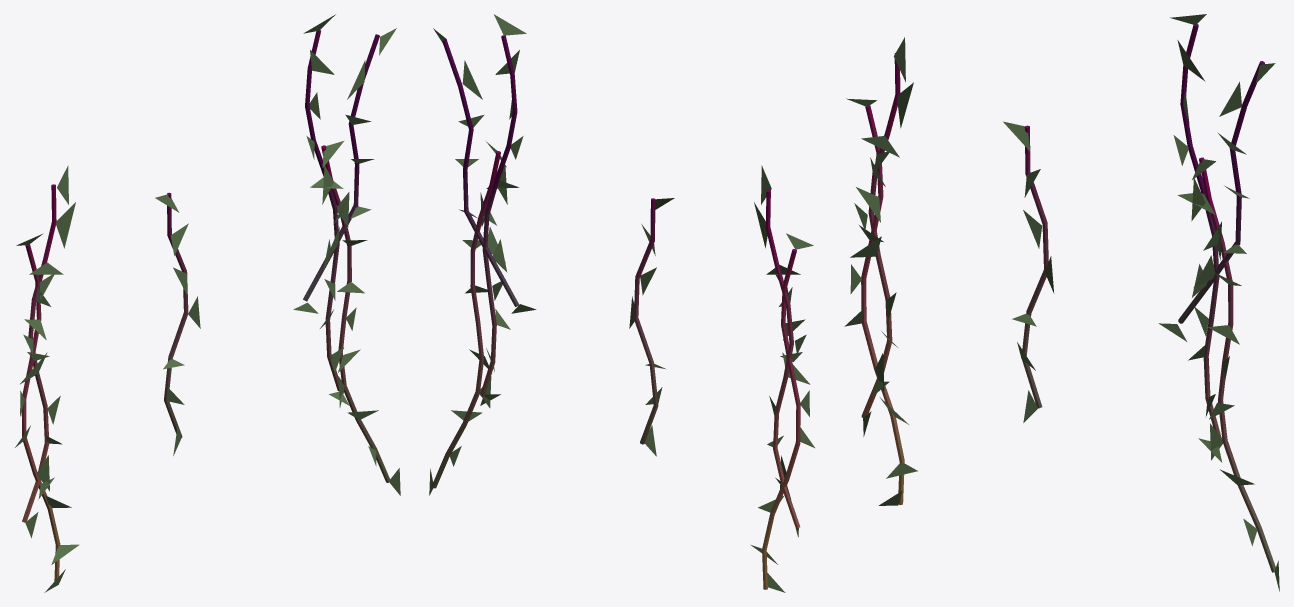
The model's file is ivy_sheet_a.glb.
The picture shows the model from 3 angles, left to right: view 1: azimuth 30°, elevation 25°; view 2: azimuth 150°, elevation 25°; view 3: azimuth 330°, elevation 25°; orthographic projection. The views are drawn at different scales.
Parts seen in each view (by area): view 1: ivy, ivy_stem_3, ivy_stem_1, ivy_stem_5, ivy_stem_0, ivy_stem_2, ivy_stem_4; view 2: ivy, ivy_stem_3, ivy_stem_5, ivy_stem_0, ivy_stem_1, ivy_stem_2, ivy_stem_4; view 3: ivy, ivy_stem_5, ivy_stem_3, ivy_stem_0, ivy_stem_2, ivy_stem_1, ivy_stem_4.
Part boxes in pixels (x1,y1,x2,y2): ivy: (15,14,400,592); ivy_stem_3: (305,30,339,390); ivy_stem_1: (22,184,56,522); ivy_stem_5: (321,145,390,482); ivy_stem_0: (21,244,60,581); ivy_stem_2: (303,34,379,301); ivy_stem_4: (164,192,188,437); ivy: (429,14,814,592); ivy_stem_3: (480,35,517,396); ivy_stem_5: (431,151,500,488); ivy_stem_0: (762,249,800,589); ivy_stem_1: (765,190,800,528); ivy_stem_2: (442,40,519,306); ivy_stem_4: (634,198,658,444); ivy: (844,14,1279,591); ivy_stem_5: (1199,157,1275,572); ivy_stem_3: (1180,24,1221,437); ivy_stem_0: (861,105,904,504); ivy_stem_2: (1178,61,1264,323); ivy_stem_1: (861,53,900,417); ivy_stem_4: (1022,125,1048,408).
Bounding box in the file's own units: 2.05 × 2.57 × 0.0454.
